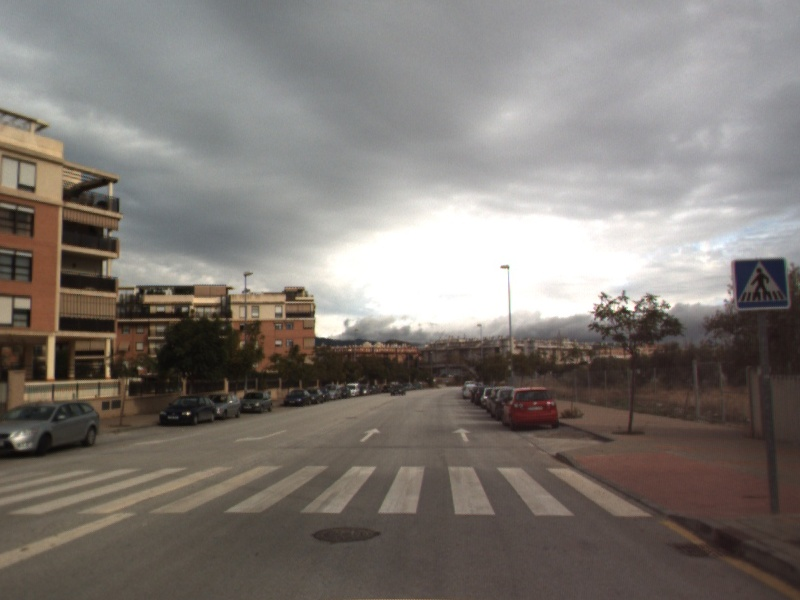STRAIGHT: (358, 426, 383, 444), (450, 426, 474, 443)
